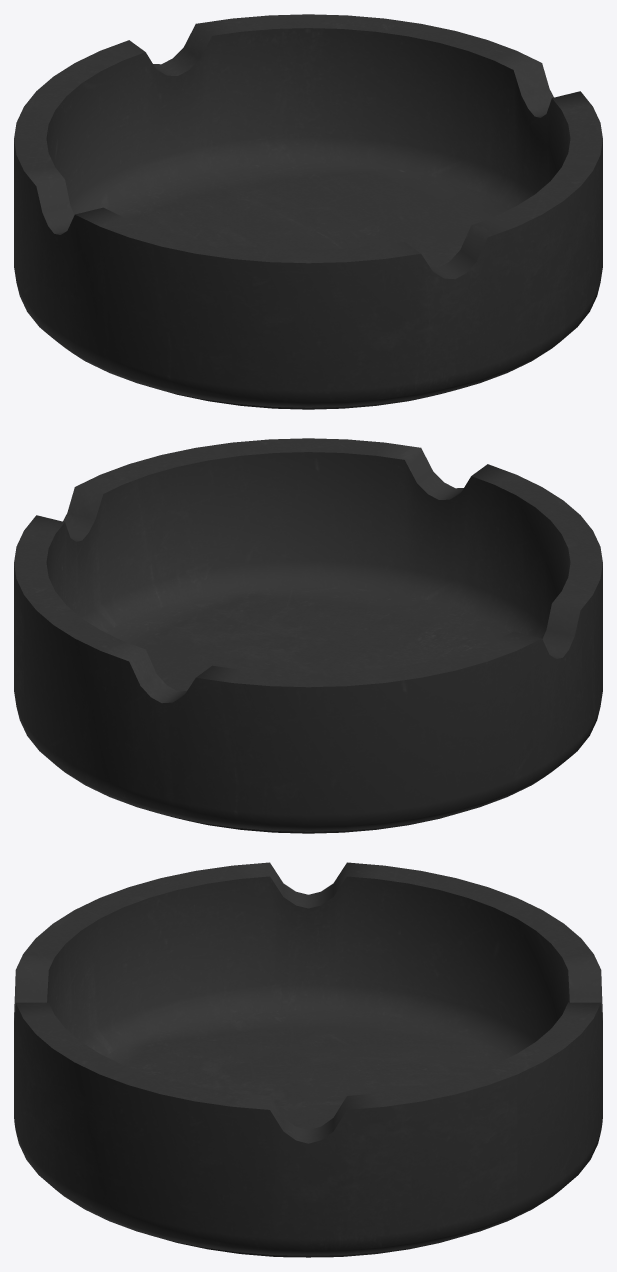
Rendered from Ashtray.fbx.
3 renders of one model, top to bottom at view 1: azimuth 30°, elevation 25°; view 2: azimuth 150°, elevation 25°; view 3: azimuth 270°, elevation 25°, orthographic.
Parts seen in each view (by area): view 1: Ashtray; view 2: Ashtray; view 3: Ashtray.
Boxes of the visible parts, bbox=[...] form: Ashtray: bbox=[14, 14, 602, 409]; Ashtray: bbox=[14, 438, 602, 833]; Ashtray: bbox=[14, 862, 602, 1257].
Bounding box in the file's own units: 3.93 × 1.18 × 3.93.
Materials: 1 (1 with a texture image).
